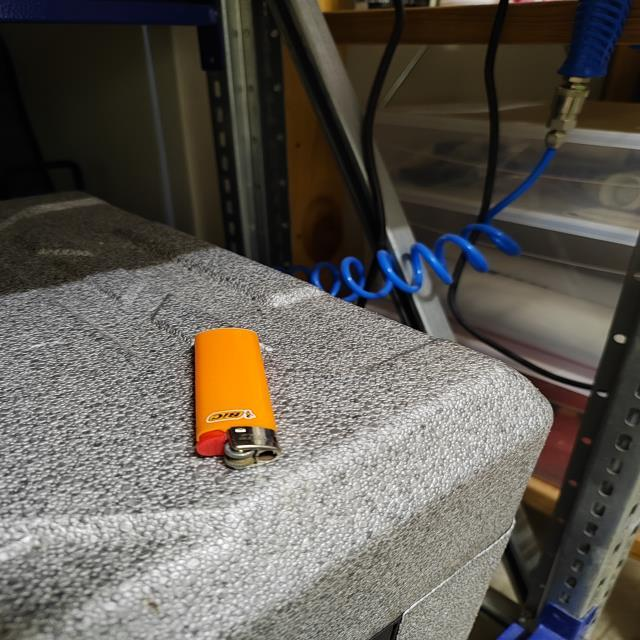lighter: (194, 328, 279, 469)
